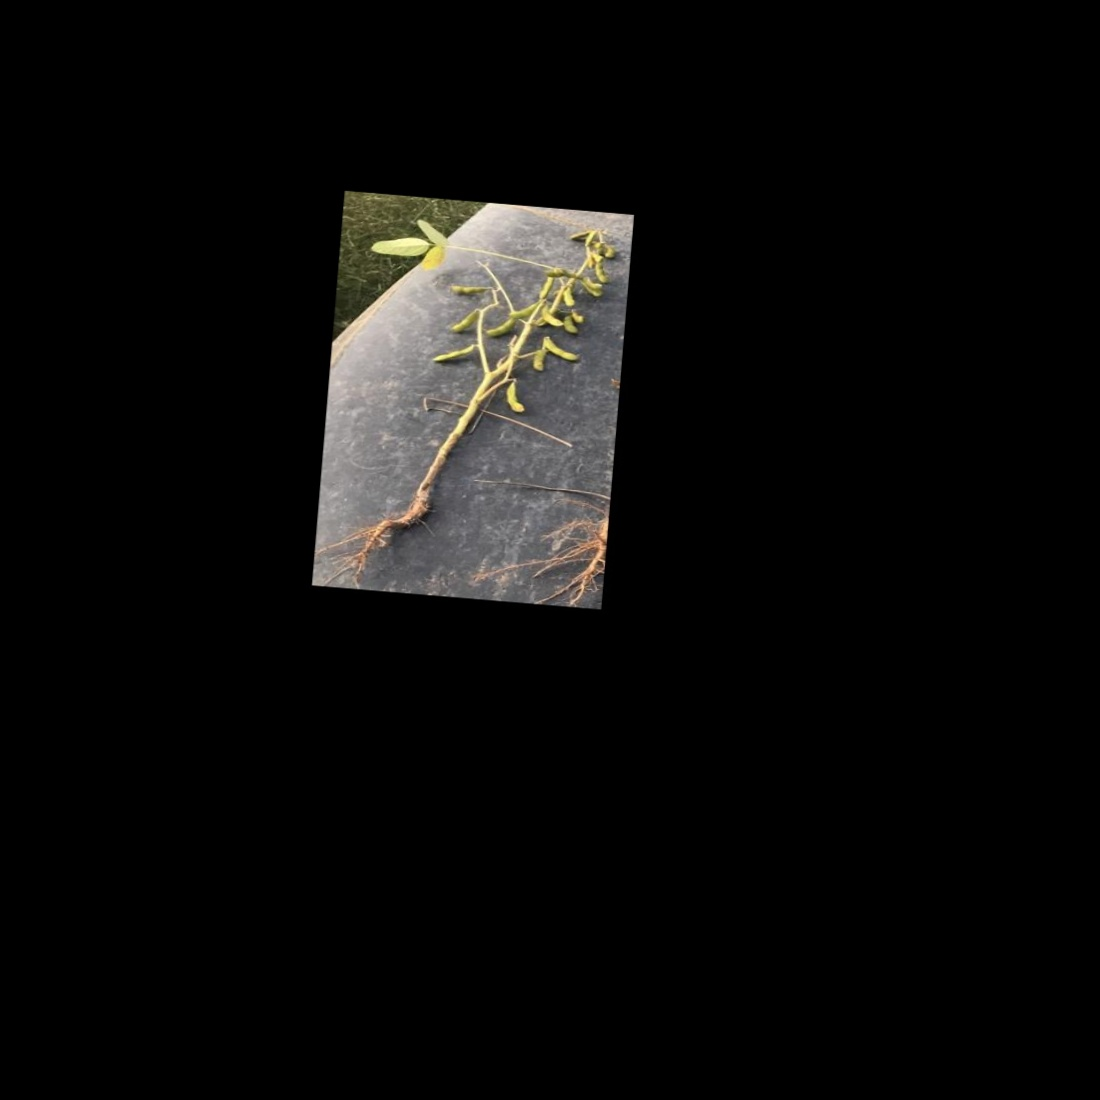pod: (501, 376, 536, 415), (445, 302, 479, 337), (430, 338, 476, 364), (544, 335, 583, 363), (442, 278, 494, 298), (502, 296, 543, 319), (482, 314, 518, 340), (533, 274, 556, 303), (559, 285, 581, 309), (529, 348, 548, 375), (594, 263, 615, 285)
soy: (341, 200, 620, 578)
